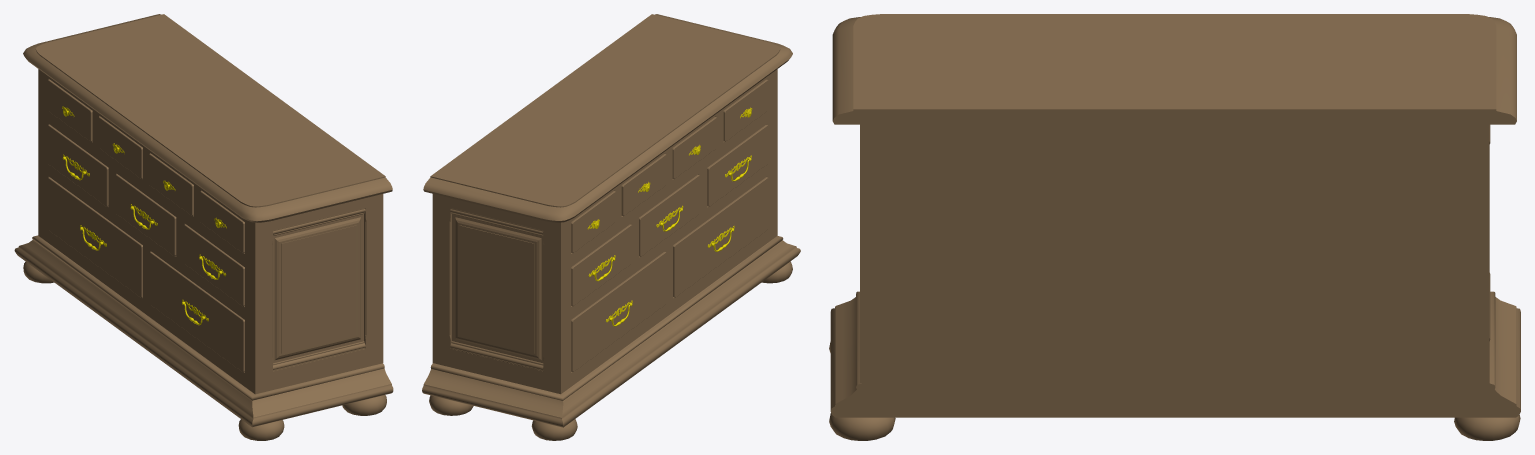
Rendered from Drawer.fbx.
3 views of the same model, side by side, from view 1: azimuth 30°, elevation 25°; view 2: azimuth 150°, elevation 25°; view 3: azimuth 270°, elevation 25° (orthographic). The views are drawn at different scales.
Parts seen in each view (by area): view 1: Drawer_Body, Drawer_B1, Drawer_B2, Drawer_M1, Drawer_M2, Drawer_M3, Drawer1, Drawer3, Drawer2, Drawer4; view 2: Drawer_Body, Drawer_B1, Drawer_B2, Drawer_M1, Drawer_M3, Drawer_M2, Drawer2, Drawer4, Drawer3, Drawer1; view 3: Drawer_Body.
Boxes of the visible parts, bbox=[...] form: Drawer_Body: bbox=[14, 14, 393, 440]; Drawer_B1: bbox=[47, 177, 142, 297]; Drawer_B2: bbox=[149, 252, 244, 372]; Drawer_M1: bbox=[47, 124, 108, 206]; Drawer_M2: bbox=[115, 174, 176, 256]; Drawer_M3: bbox=[183, 224, 244, 306]; Drawer1: bbox=[47, 79, 92, 141]; Drawer3: bbox=[148, 153, 193, 215]; Drawer2: bbox=[98, 116, 142, 178]; Drawer4: bbox=[200, 191, 244, 253]; Drawer_Body: bbox=[422, 14, 800, 440]; Drawer_B1: bbox=[571, 251, 666, 371]; Drawer_B2: bbox=[673, 177, 768, 297]; Drawer_M1: bbox=[571, 224, 632, 306]; Drawer_M3: bbox=[707, 124, 768, 206]; Drawer_M2: bbox=[639, 175, 699, 256]; Drawer2: bbox=[621, 154, 666, 216]; Drawer4: bbox=[723, 79, 768, 141]; Drawer3: bbox=[672, 117, 717, 179]; Drawer1: bbox=[571, 191, 616, 252]; Drawer_Body: bbox=[829, 14, 1520, 440].
Size of the model in its own units: 0.562 by 0.8619 by 1.63.
